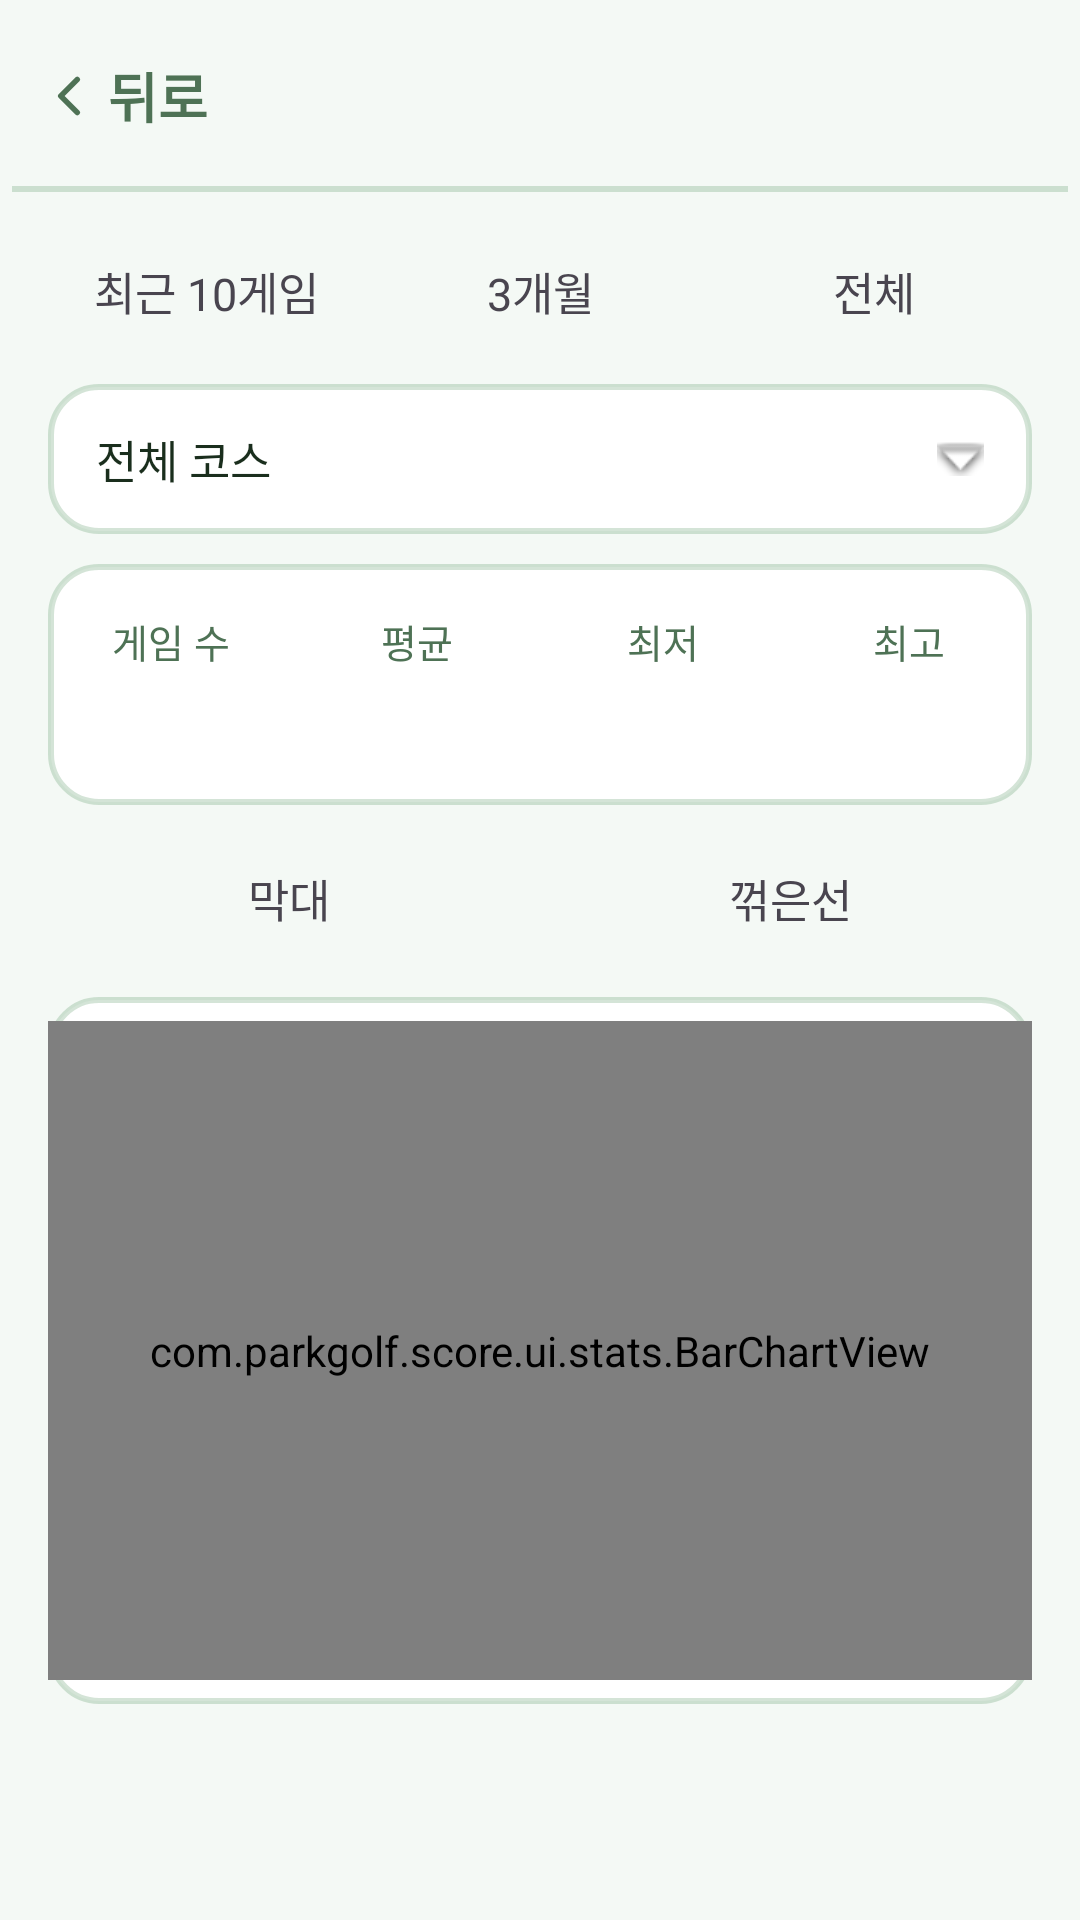

Where icons sit on this 1080px x 1920px app screen, as rect(x1, y1, x2, y2):
chevron left: rect(58, 76, 80, 116)
